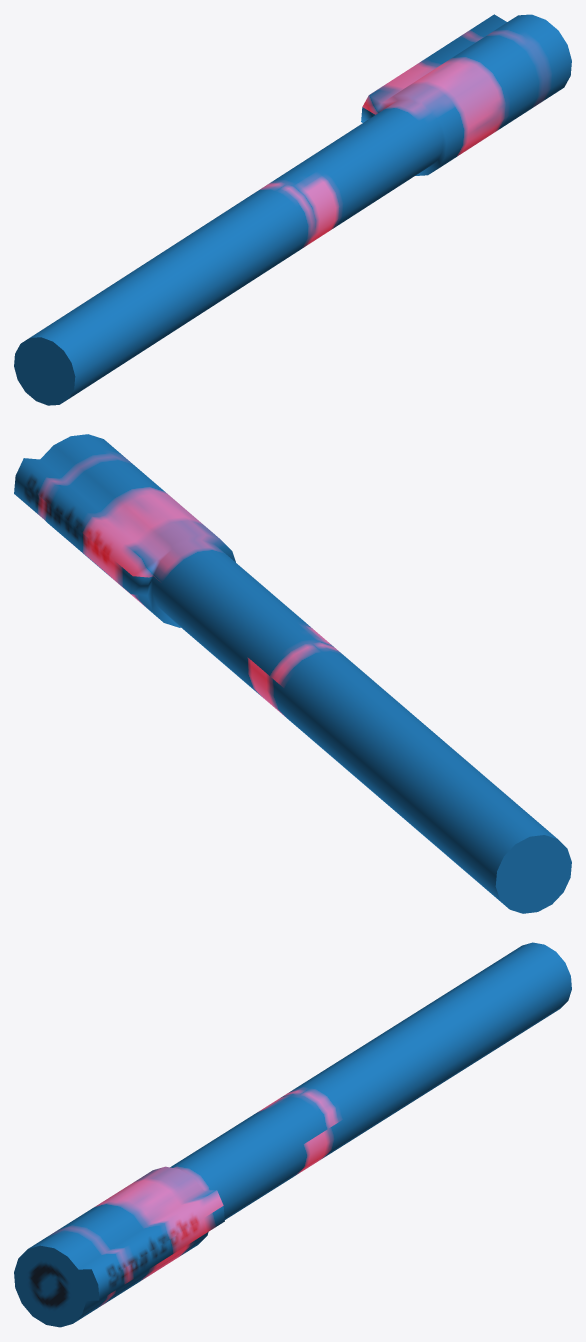
File: SM_Highlighter1.fbx
The picture shows the model from 3 angles, top to bottom: view 1: azimuth 90°, elevation 25°; view 2: azimuth 150°, elevation 25°; view 3: azimuth 270°, elevation 25°; orthographic projection. The views are drawn at different scales.
Parts seen in each view (by area): view 1: SM_Highlighter1_LOD0; view 2: SM_Highlighter1_LOD0; view 3: SM_Highlighter1_LOD0.
Part boxes in pixels (x1,y1,x2,y2): SM_Highlighter1_LOD0: [14, 14, 571, 405]; SM_Highlighter1_LOD0: [14, 434, 571, 913]; SM_Highlighter1_LOD0: [14, 942, 571, 1327].
Bounding box in the file's own units: 16.18 × 11.37 × 1.79.
1 material, 1 textured.
